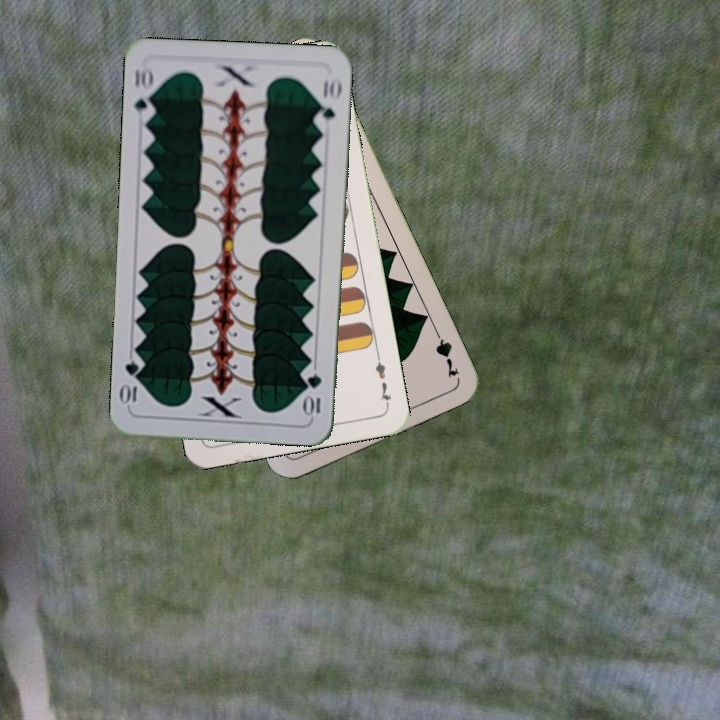E7: (371, 350, 394, 409)
G10: (130, 63, 157, 122), (302, 370, 324, 419)
G7: (429, 323, 461, 380)
